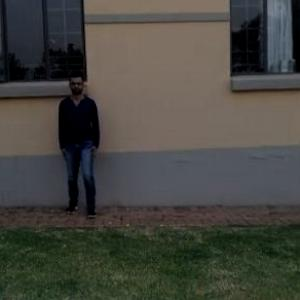follow: (57, 69, 99, 214)
